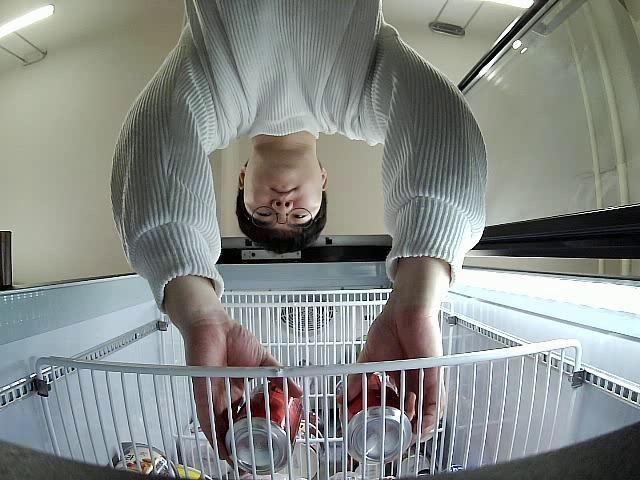11_cocaColaZero: (336, 370, 413, 464), (226, 378, 302, 472)
